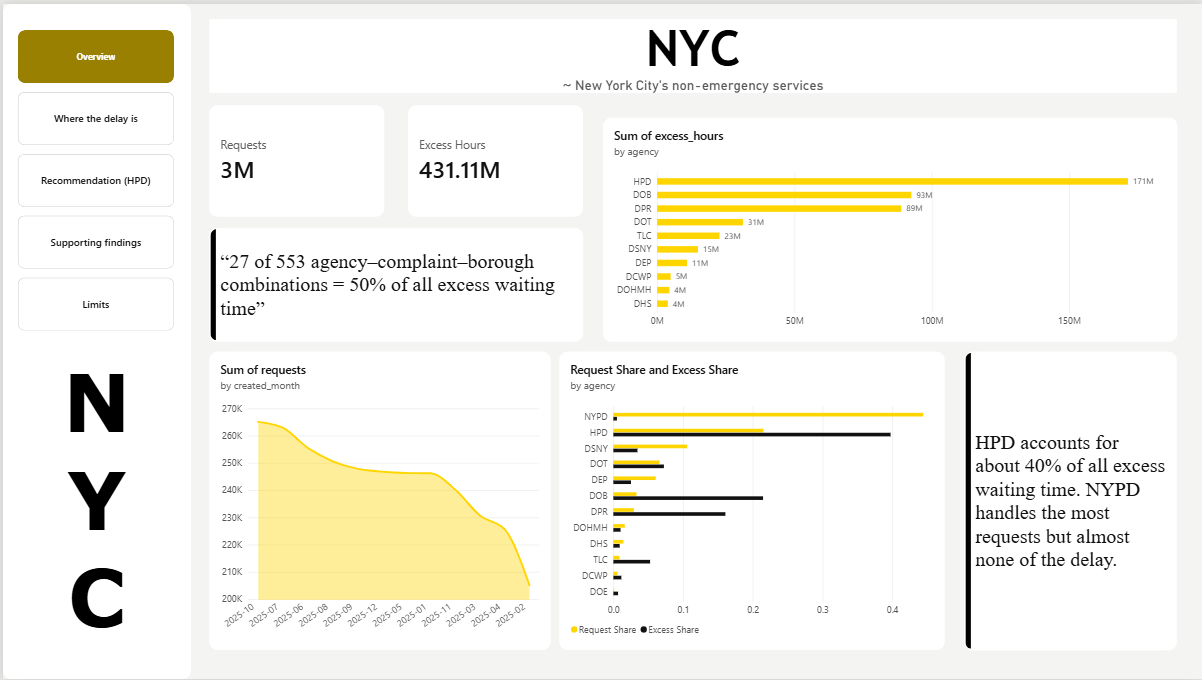

What the dashboard file says about the page in this screenshot:
{"tool":"powerbi","page":{"name":"Overview","canvas":[1920,1080],"ordinal":0},"visuals":[{"type":"cardVisual","fields":{"Data":["_Measures.Requests"]},"box":[330,162,280,178],"z":0},{"type":"shape","box":[0,0,300.4,1080.4],"z":1000},{"type":"cardVisual","fields":{"Data":["_Measures.Excess Hours"]},"box":[648,162,280,178],"z":2000},{"type":"clusteredBarChart","fields":{"Category":["sum_agency_borough.agency"],"Y":["Sum(sum_agency_borough.excess_hours)"]},"box":[960,182,919.3,358.3],"z":3000},{"type":"lineChart","fields":{"Category":["sum_month.created_month"],"Y":["Sum(sum_month.requests)"]},"box":[329.4,555.6,546.5,477.8],"z":4000},{"type":"cardVisual","fields":{"Data":["_Measures.Insight 11"]},"box":[1538,556,340,478],"z":5000},{"type":"clusteredBarChart","fields":{"Category":["Agency.agency"],"Y":["_Measures.Request Share","_Measures.Excess Share"]},"box":[890.4,555.6,617.1,477.8],"z":6000},{"type":"textbox","box":[330,24,1548,118],"z":7000},{"type":"textbox","box":[22,556,256,524],"z":8000},{"type":"cardVisual","fields":{"Data":["_Measures.insights1"]},"box":[330,358,598,182],"z":9000},{"type":"pageNavigator","box":[22,40,254,488],"z":9001}]}

Visuals, with their boxes in screenshot pixels (x1, y1, x2, y2), scaled from the page's 1920x1080 canvas onto the 1202x680 screenshot:
cardVisual - _Measures.Requests: {"x1": 207, "y1": 102, "x2": 382, "y2": 214}
shape: {"x1": 0, "y1": 0, "x2": 188, "y2": 679}
cardVisual - _Measures.Excess Hours: {"x1": 406, "y1": 102, "x2": 581, "y2": 214}
clusteredBarChart - sum_agency_borough.agency x Sum(sum_agency_borough.excess_hours): {"x1": 601, "y1": 115, "x2": 1177, "y2": 340}
lineChart - sum_month.created_month x Sum(sum_month.requests): {"x1": 206, "y1": 350, "x2": 548, "y2": 651}
cardVisual - _Measures.Insight 11: {"x1": 963, "y1": 350, "x2": 1176, "y2": 651}
clusteredBarChart - Agency.agency x _Measures.Request Share: {"x1": 557, "y1": 350, "x2": 944, "y2": 651}
textbox: {"x1": 207, "y1": 15, "x2": 1176, "y2": 89}
textbox: {"x1": 14, "y1": 350, "x2": 174, "y2": 679}
cardVisual - _Measures.insights1: {"x1": 207, "y1": 225, "x2": 581, "y2": 340}
pageNavigator: {"x1": 14, "y1": 25, "x2": 173, "y2": 332}
